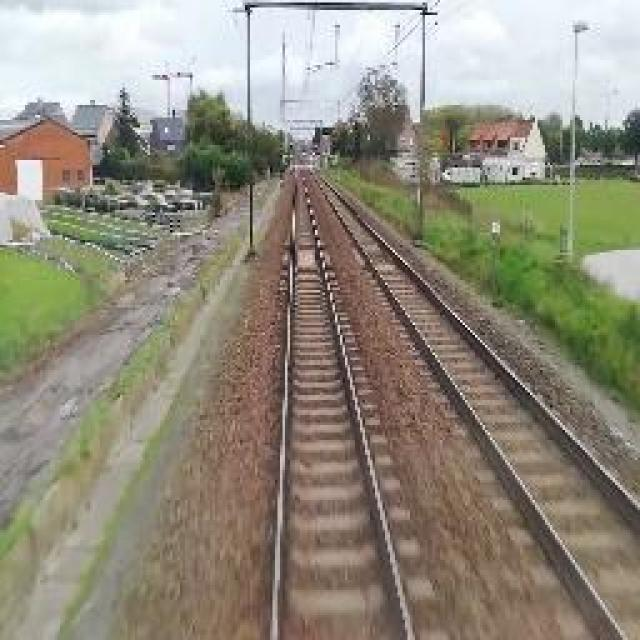rail: (254, 165, 457, 640)
